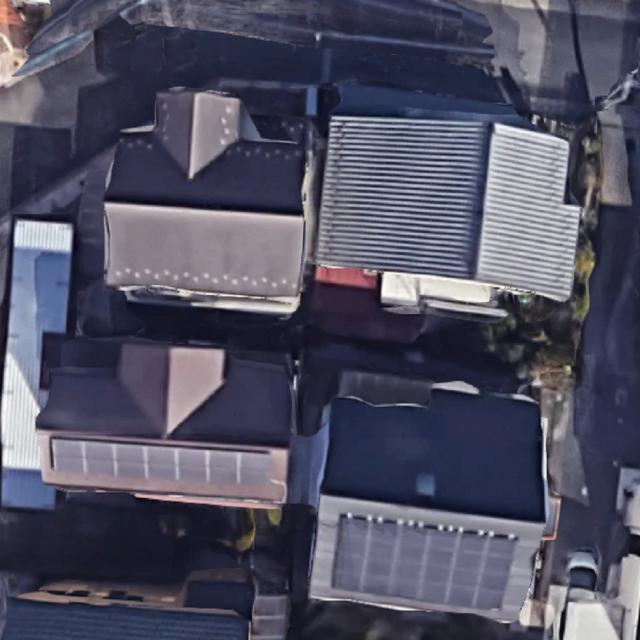Batiment: (310, 389, 546, 621), (316, 116, 580, 301), (105, 89, 305, 313), (36, 342, 291, 503)
